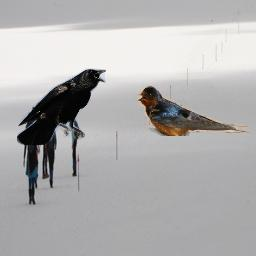Crow: (17, 68, 106, 145)
Swallow: (137, 85, 249, 136)
